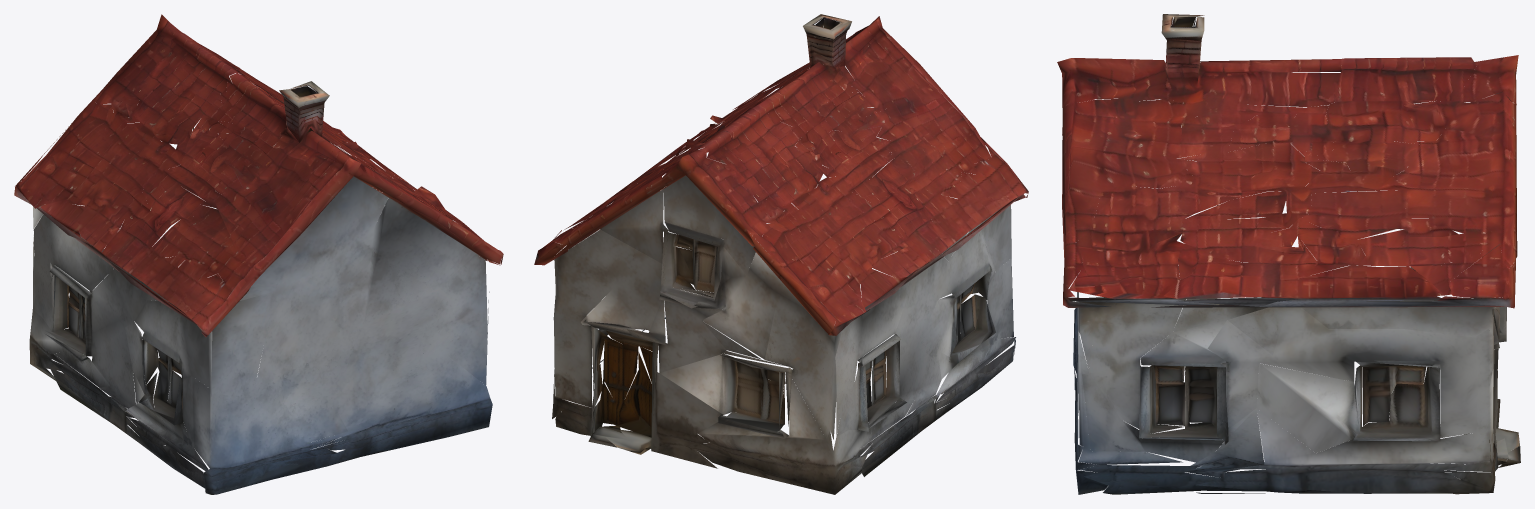
The model's file is house_lod1.glb.
3 renders of one model, left to right at view 1: azimuth 30°, elevation 25°; view 2: azimuth 150°, elevation 25°; view 3: azimuth 270°, elevation 25°, orthographic. The views are drawn at different scales.
Parts seen in each view (by area): view 1: body; view 2: body; view 3: body.
Part boxes in pixels (x1,y1,x2,y2): body: [14, 14, 503, 494]; body: [534, 14, 1028, 494]; body: [1057, 14, 1520, 494].
Bounding box in the file's own units: 6.82 × 7.19 × 7.6.
Materials: 1 (1 with a texture image).
